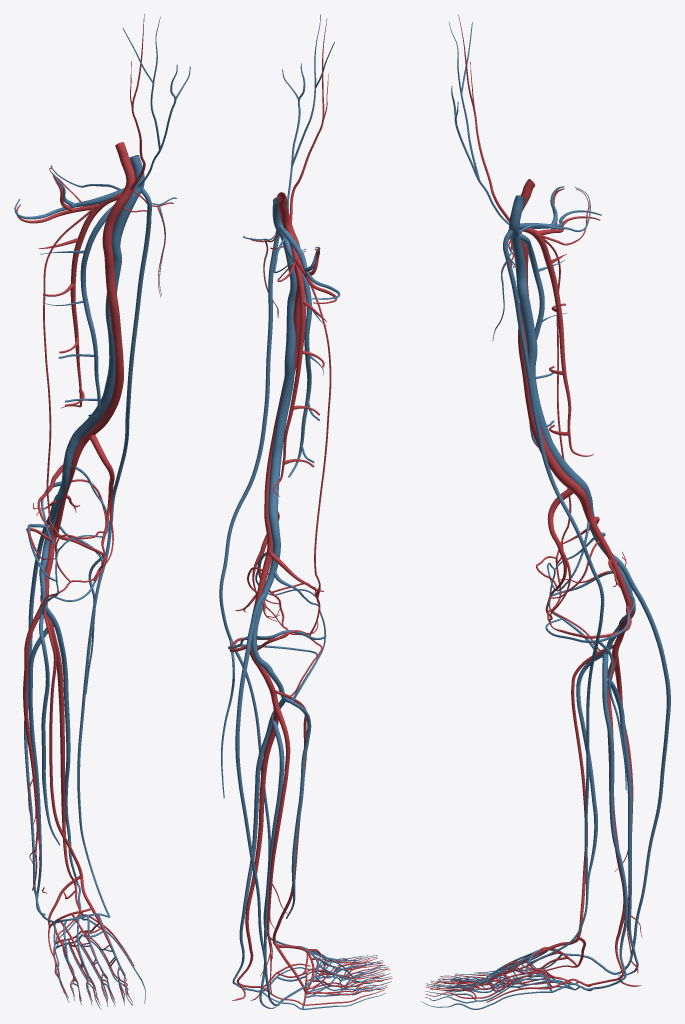
File: detail-circulatory-right-lower-limb.glb
The picture shows the model from 3 angles, left to right: view 1: azimuth 30°, elevation 25°; view 2: azimuth 150°, elevation 25°; view 3: azimuth 270°, elevation 25°; orthographic projection. The views are drawn at different scales.
Parts seen in each view (by area): view 1: za-9b3029ef618417d8, za-d8f54084dbaf5323, za-146badac5ae62f1e, za-50aa139547fa6f62, za-ee41de0e6f057151, za-07ecf10f5df14da6, za-943e94c4c8eeed0d, za-b17fc95081c6e572, za-b14fc55d52b249cf, za-3defb1bdd52c9b02, za-2fb4803dc8cc75af, za-5ebca8f9afb74a40 (+11 smaller); view 2: za-9b3029ef618417d8, za-146badac5ae62f1e, za-07ecf10f5df14da6, za-ee41de0e6f057151, za-943e94c4c8eeed0d, za-d8f54084dbaf5323, za-50aa139547fa6f62, za-5ebca8f9afb74a40, za-b17fc95081c6e572, za-2fb4803dc8cc75af, za-25f8cdbc94c687ba, za-3defb1bdd52c9b02 (+13 smaller); view 3: za-9b3029ef618417d8, za-146badac5ae62f1e, za-07ecf10f5df14da6, za-50aa139547fa6f62, za-d8f54084dbaf5323, za-2fb4803dc8cc75af, za-5ebca8f9afb74a40, za-7878e6609d787c28, za-3defb1bdd52c9b02, za-b17fc95081c6e572, za-be5411240f83f088, za-ce0c3c769e7bfb04 (+6 smaller).
Boxes of the visible parts, box(x1,y1,x2,y2) form: za-9b3029ef618417d8: box(77, 188, 151, 916); za-d8f54084dbaf5323: box(84, 142, 135, 439); za-146badac5ae62f1e: box(78, 155, 144, 435); za-50aa139547fa6f62: box(45, 605, 81, 908); za-ee41de0e6f057151: box(46, 603, 80, 909); za-07ecf10f5df14da6: box(24, 494, 57, 915); za-943e94c4c8eeed0d: box(23, 604, 41, 890); za-b17fc95081c6e572: box(39, 566, 60, 845); za-b14fc55d52b249cf: box(80, 205, 113, 416); za-3defb1bdd52c9b02: box(27, 465, 109, 614); za-2fb4803dc8cc75af: box(28, 624, 53, 912); za-5ebca8f9afb74a40: box(60, 192, 122, 408); za-9b3029ef618417d8: box(219, 230, 290, 945); za-146badac5ae62f1e: box(268, 197, 296, 508); za-07ecf10f5df14da6: box(235, 593, 298, 1006); za-ee41de0e6f057151: box(236, 700, 278, 987); za-943e94c4c8eeed0d: box(260, 700, 290, 993); za-d8f54084dbaf5323: box(264, 192, 300, 511); za-50aa139547fa6f62: box(232, 698, 285, 992); za-5ebca8f9afb74a40: box(273, 233, 305, 496); za-b17fc95081c6e572: box(268, 670, 311, 918); za-2fb4803dc8cc75af: box(259, 714, 284, 1008); za-25f8cdbc94c687ba: box(251, 507, 280, 672); za-3defb1bdd52c9b02: box(228, 552, 326, 701); za-9b3029ef618417d8: box(503, 229, 626, 964); za-146badac5ae62f1e: box(509, 195, 582, 485); za-07ecf10f5df14da6: box(592, 554, 670, 974); za-50aa139547fa6f62: box(594, 653, 627, 989); za-d8f54084dbaf5323: box(509, 179, 581, 494); za-2fb4803dc8cc75af: box(606, 678, 638, 976); za-5ebca8f9afb74a40: box(520, 228, 593, 456); za-7878e6609d787c28: box(575, 487, 633, 657); za-3defb1bdd52c9b02: box(545, 521, 635, 655); za-b17fc95081c6e572: box(576, 624, 620, 893); za-be5411240f83f088: box(571, 645, 613, 938); za-ce0c3c769e7bfb04: box(547, 488, 599, 618).
Bounding box in the file's own units: 0.1471 × 1.06 × 0.2404.
